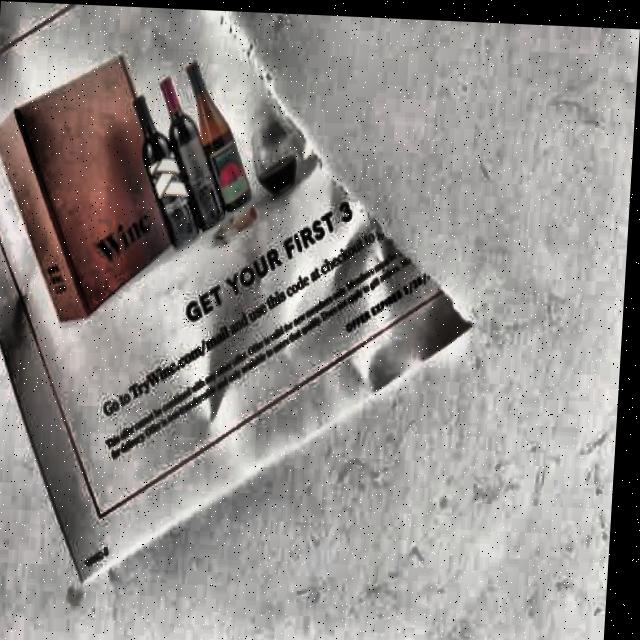paper: (0, 1, 489, 599)
